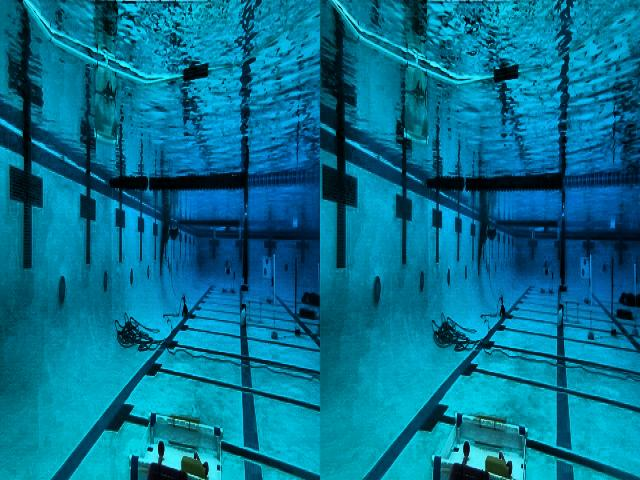octagon_table: (412, 390, 535, 480), (122, 383, 236, 480), (222, 267, 237, 295), (541, 267, 555, 295)
octagon_top: (330, 0, 640, 142), (24, 0, 320, 89)
path_marker: (562, 300, 582, 326), (246, 301, 265, 322)
sawfish: (406, 64, 428, 139), (96, 66, 117, 138)
